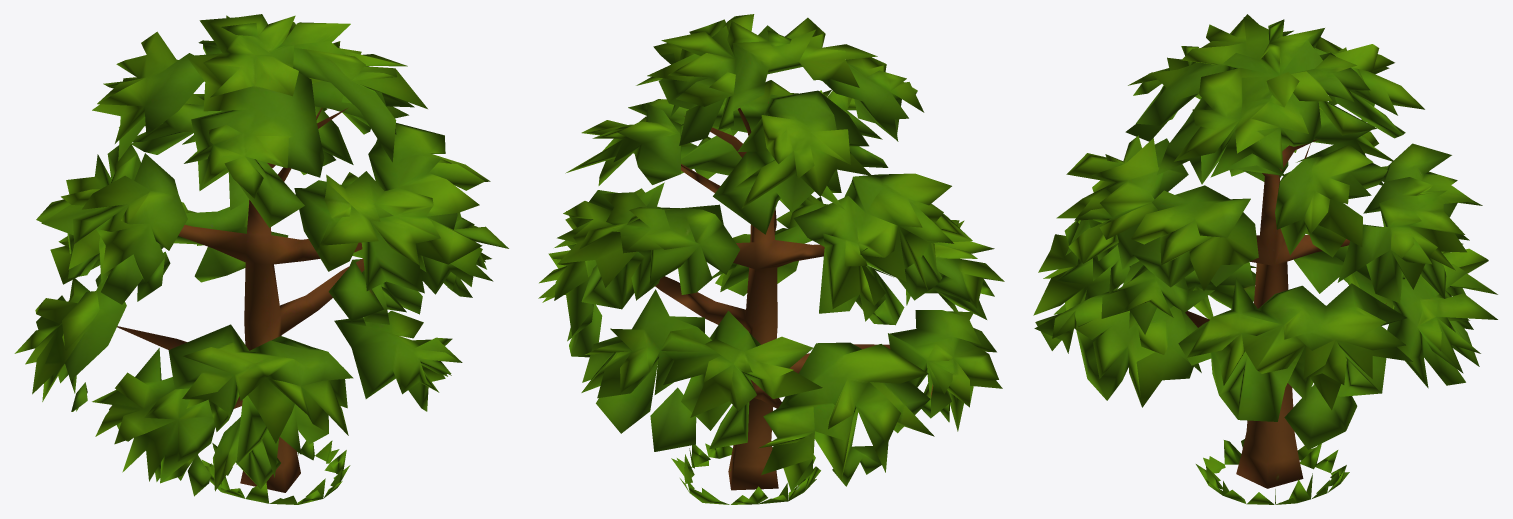
The model's file is roadside-tree.obj.
The picture shows the model from 3 angles, left to right: view 1: azimuth 30°, elevation 25°; view 2: azimuth 150°, elevation 25°; view 3: azimuth 270°, elevation 25°; orthographic projection. The views are drawn at different scales.
Bounding box in the file's own units: 3.27 × 3.5 × 3.36.
Materials: 1 (1 with a texture image).
